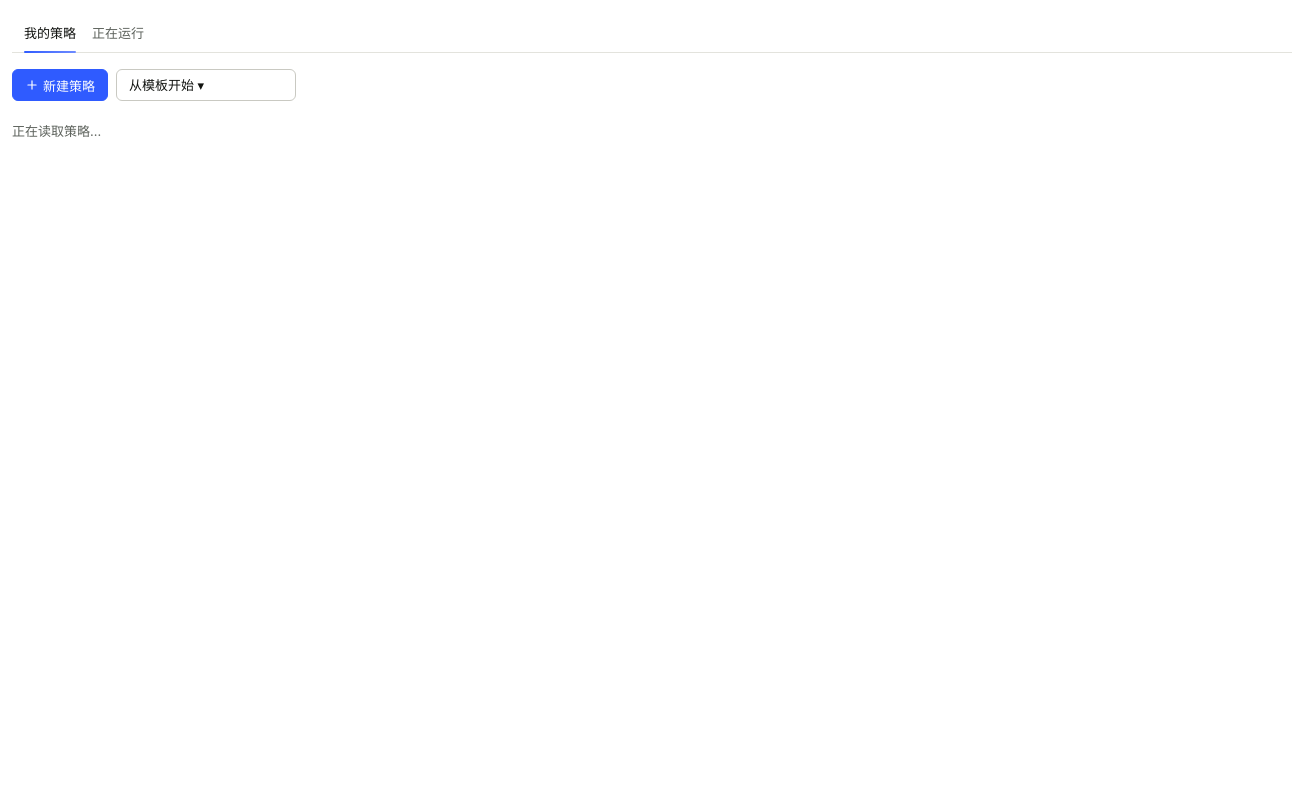
Test case: 编辑卡 · 从模板：模板的默认计划填进表单（执行周期取模板的），存为草稿时带 templateId，打开它的结果页并回测
Click the button "新建策略" at (60, 85), box 12,69 -> 108,101
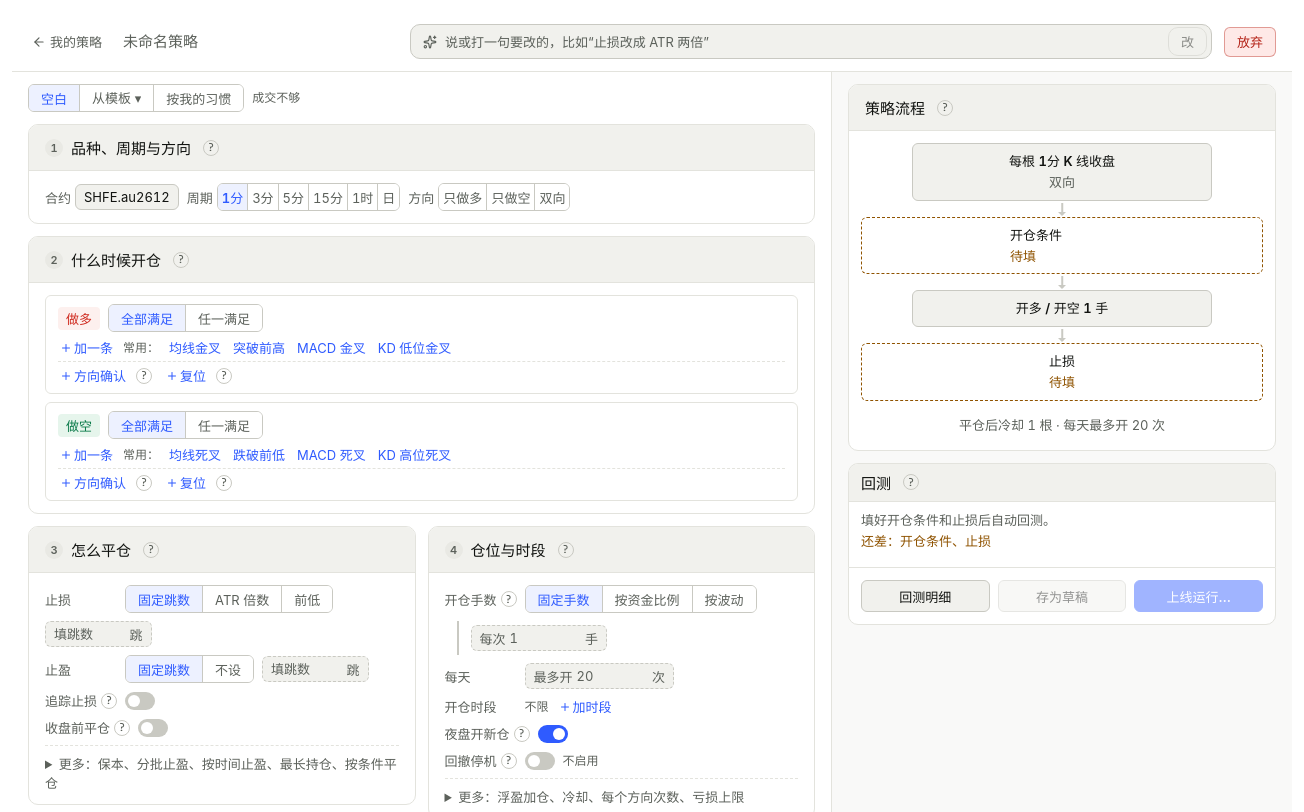
Select "Dual Thrust" in the dropdown named "从模板" at (117, 98), box 80,85 -> 154,111
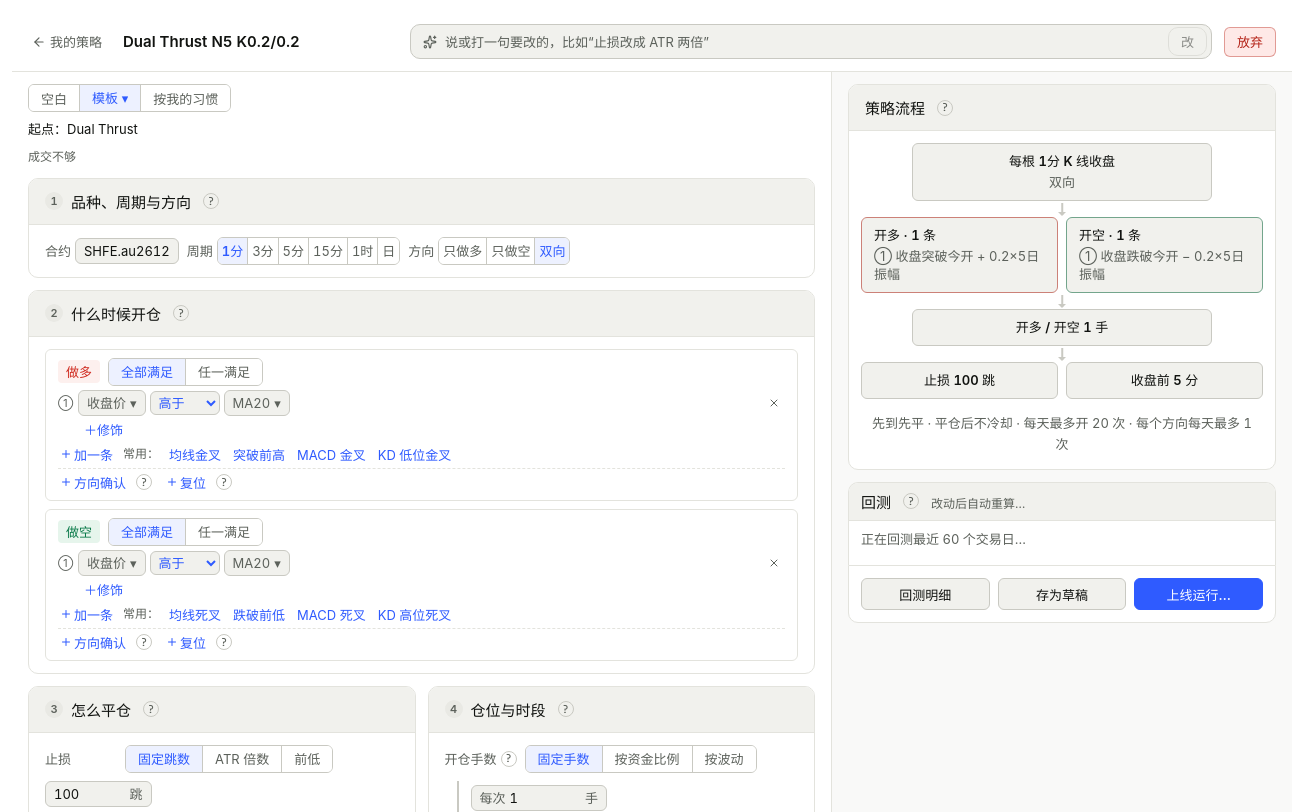
Click the button "存为草稿" at (1062, 594), box 998,578 -> 1126,610
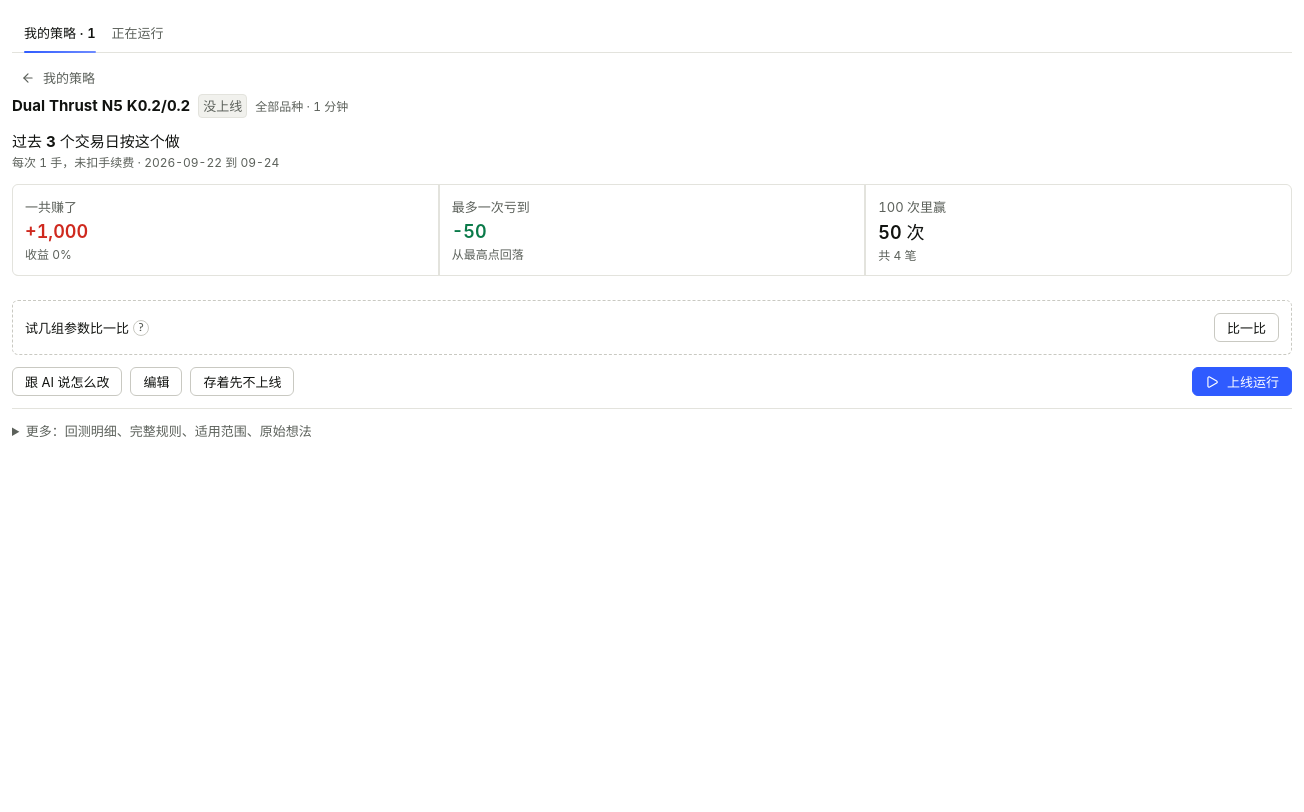
Expected: the text "一共赚了" is shown, 25,199 -> 77,215
